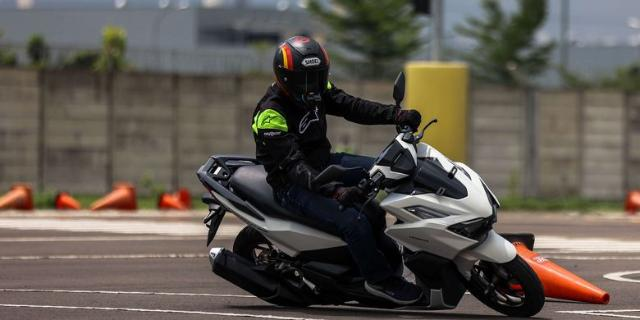helm: (272, 34, 335, 109)
motor: (191, 70, 547, 320)
